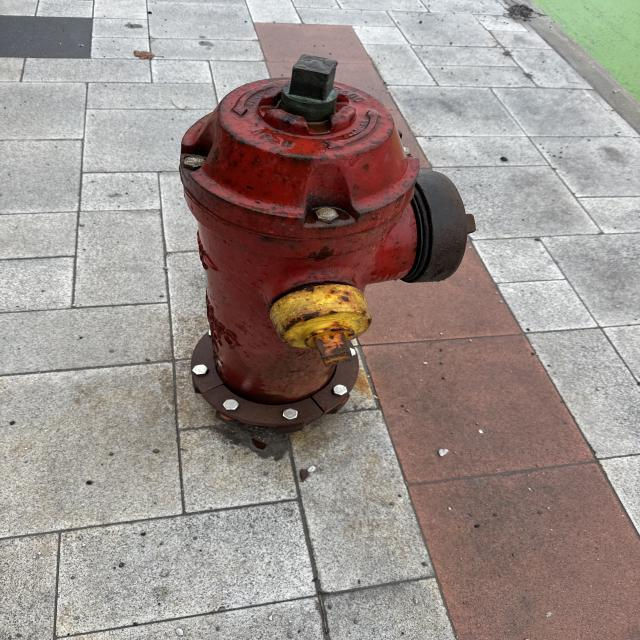Fire hydrant: (177, 53, 477, 433)
